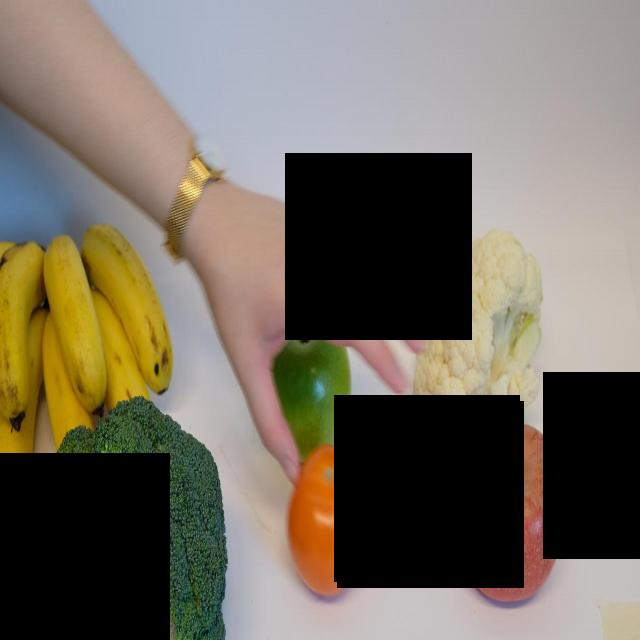apple: (447, 409, 576, 616), (262, 297, 370, 455)
banana: (85, 203, 186, 384), (41, 210, 112, 428), (0, 213, 44, 447), (0, 290, 44, 516)
broccoli: (29, 390, 244, 639)
cauliflower: (406, 202, 552, 462)
tomato: (286, 430, 378, 610)
